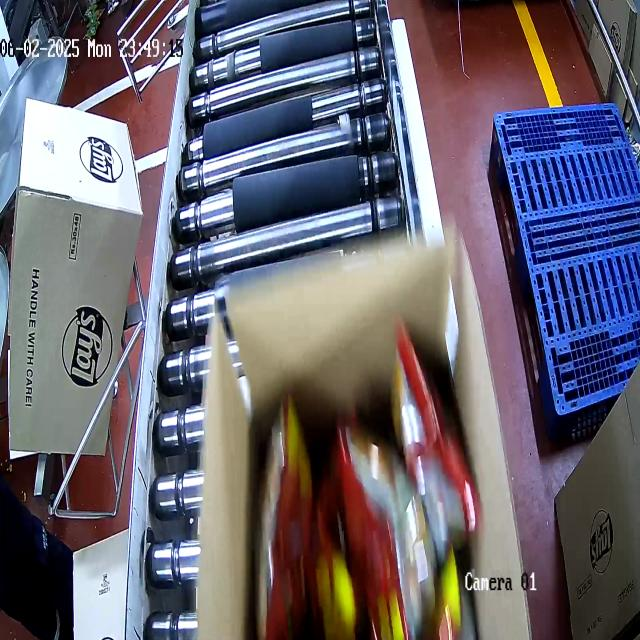MASALA: (255, 341, 480, 640)
